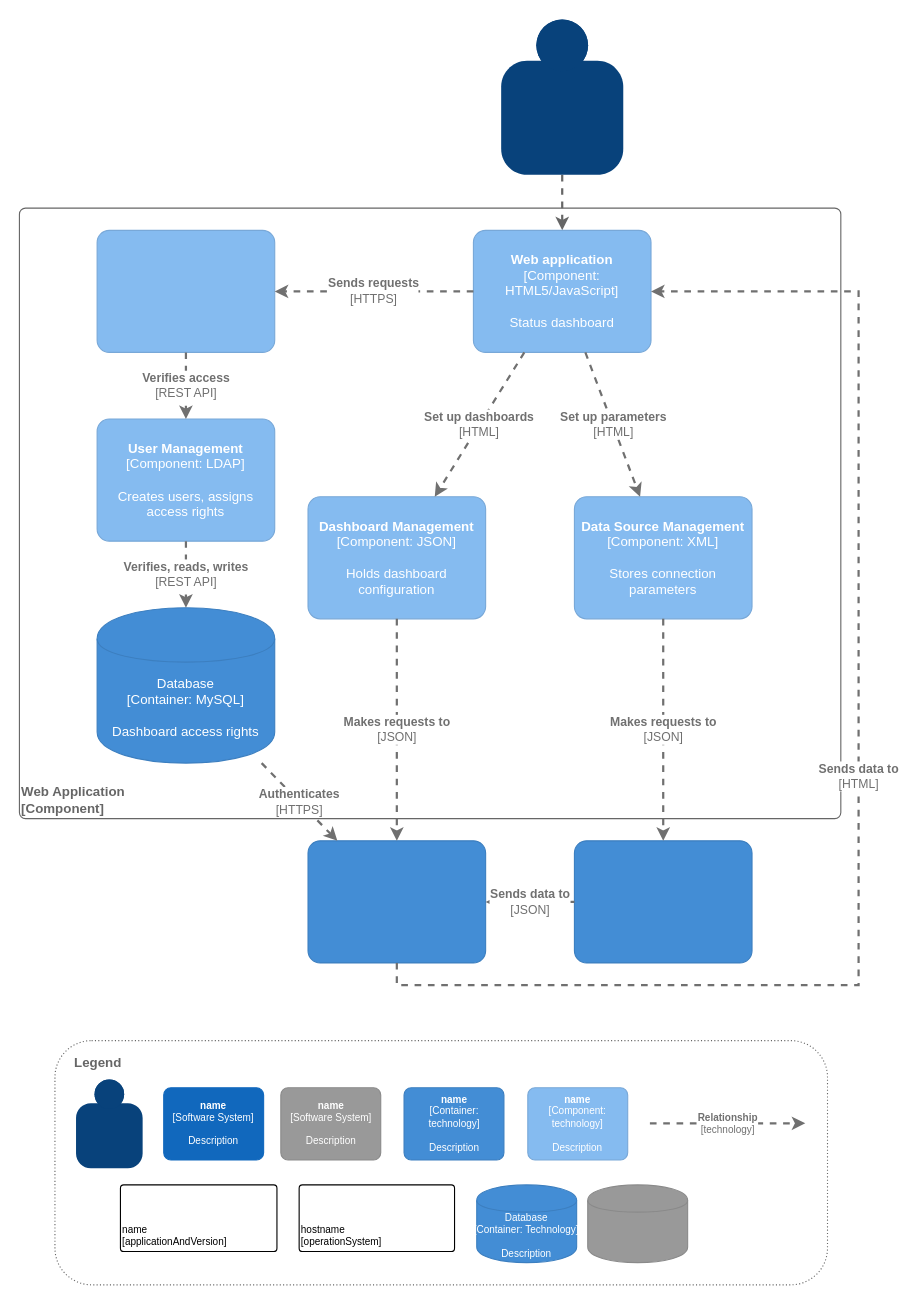
Some shapes in this 918 by 1304 pixel diagram are drawn without their labels. Each missing label, with the centre of its shape:
API Servive [Container: Java/Python]: the point at 662,901
Database [Container: Technology] External: the point at 637,1223
name [Person] Description: the point at 108,1123
Sign-in controller [Component: Keycloak] Enforces access rights: the point at 185,290
Support Staff [Person] Monitors the production line: the point at 562,96
Visualisation Dashboard [Container: Graphics libraries]: the point at 396,901
